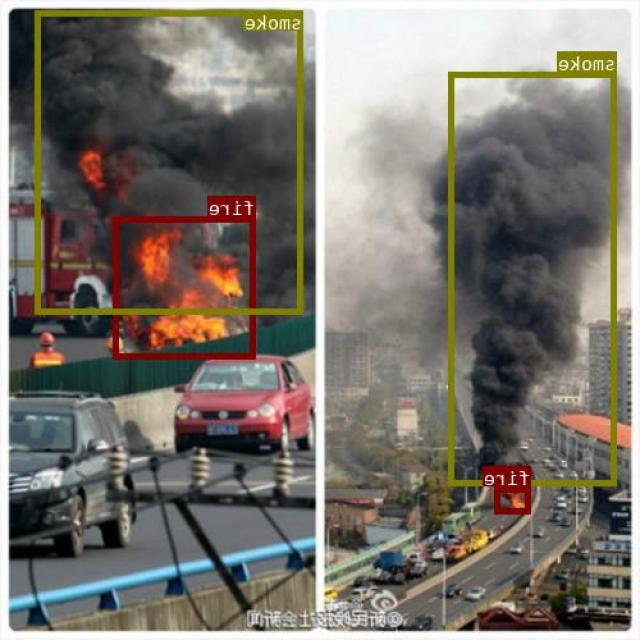fire: (114, 215, 256, 358), (496, 486, 532, 513)
smoke: (37, 9, 304, 313), (450, 71, 618, 485)
